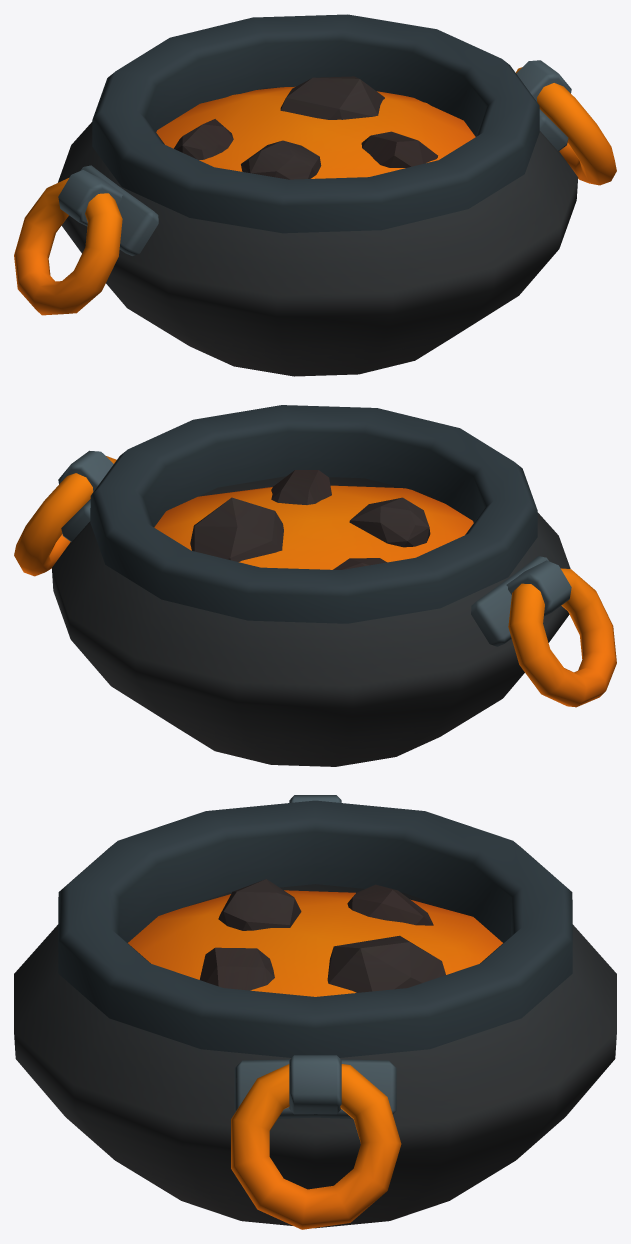
The model's file is Brazier_004.glb.
The picture shows the model from 3 angles, top to bottom: view 1: azimuth 30°, elevation 25°; view 2: azimuth 150°, elevation 25°; view 3: azimuth 270°, elevation 25°; orthographic projection. The views are drawn at different scales.
Visible parts, largest first — view 1: Brazier_004; view 2: Brazier_004; view 3: Brazier_004.
Part boxes in pixels (left/top/right/bottom): Brazier_004: left=14, top=14, right=616, bottom=376; Brazier_004: left=14, top=405, right=616, bottom=766; Brazier_004: left=14, top=795, right=616, bottom=1229.
Bounding box in the file's own units: 2.58 × 0.9116 × 2.
2 materials, 2 textured.
